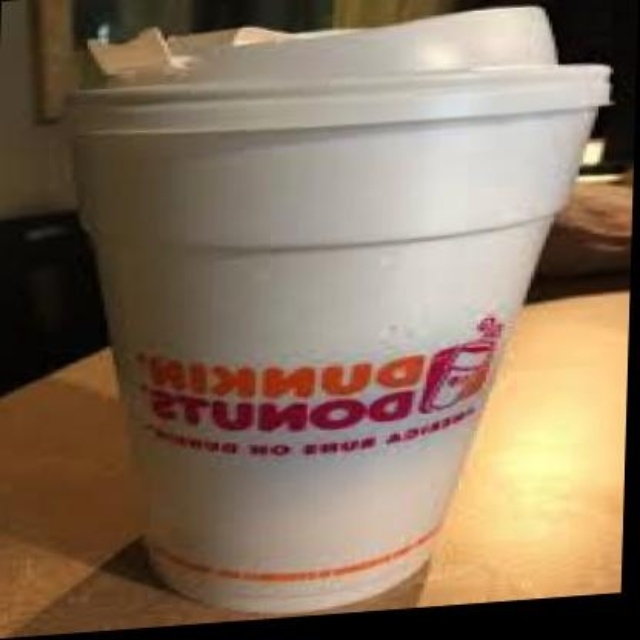trash: (75, 8, 608, 612)
